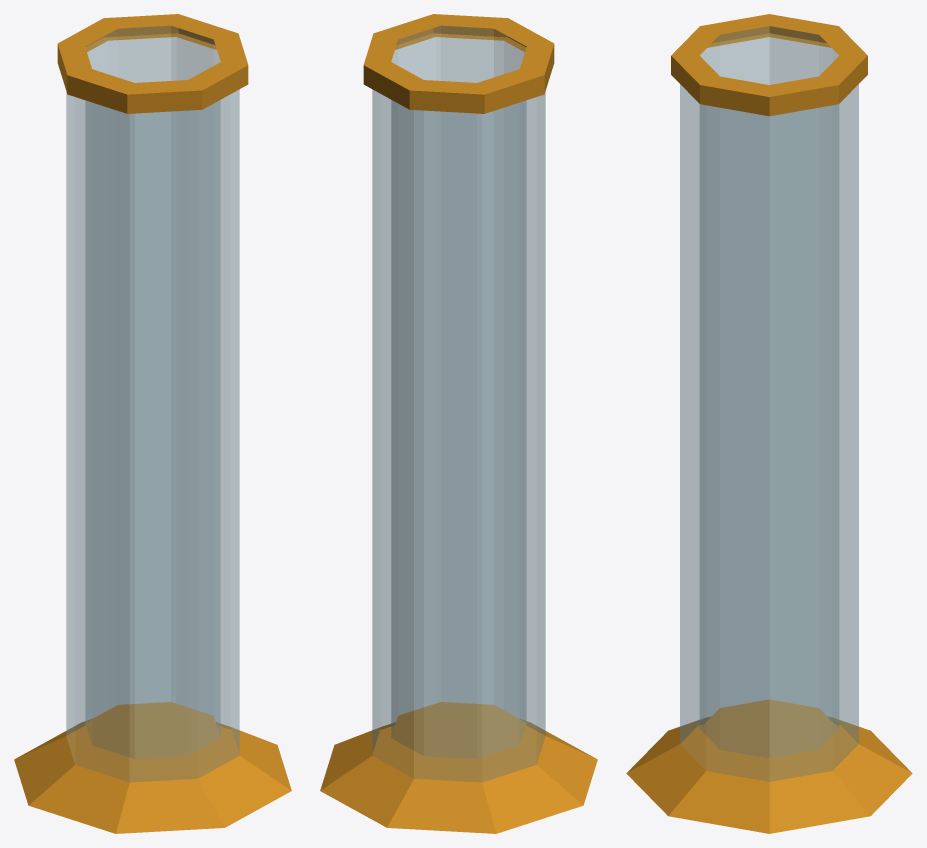
Rendered from probetatubo.fbx.
3 renders of one model, left to right at view 1: azimuth 30°, elevation 25°; view 2: azimuth 150°, elevation 25°; view 3: azimuth 270°, elevation 25°, orthographic.
Visible parts, largest first — view 1: ProbetaTubo; view 2: ProbetaTubo; view 3: ProbetaTubo.
Boxes of the visible parts, box(x1,y1,x2,y2) form: ProbetaTubo: box(14, 14, 291, 833); ProbetaTubo: box(320, 14, 597, 833); ProbetaTubo: box(626, 14, 912, 833).
Size of the model in its own units: 320 by 886 by 320.
